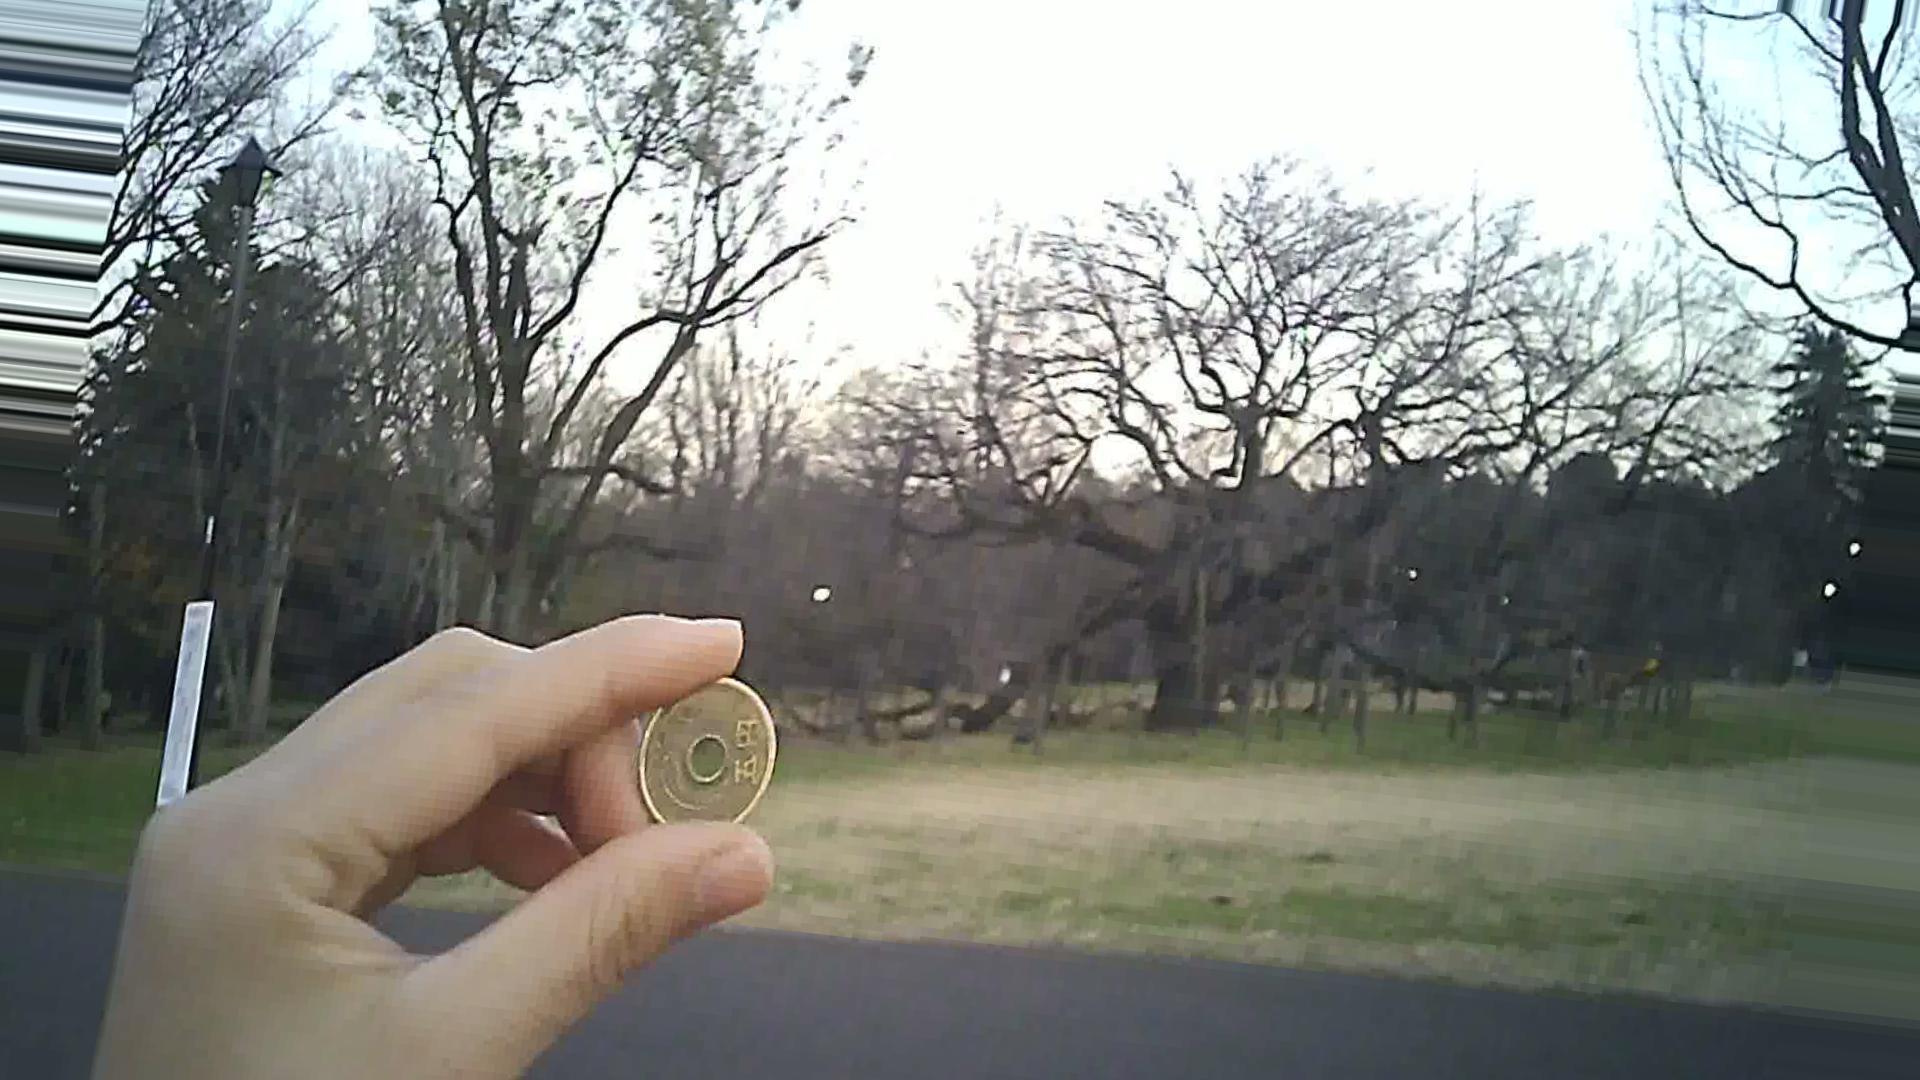5 Yen: (615, 669, 769, 874)
